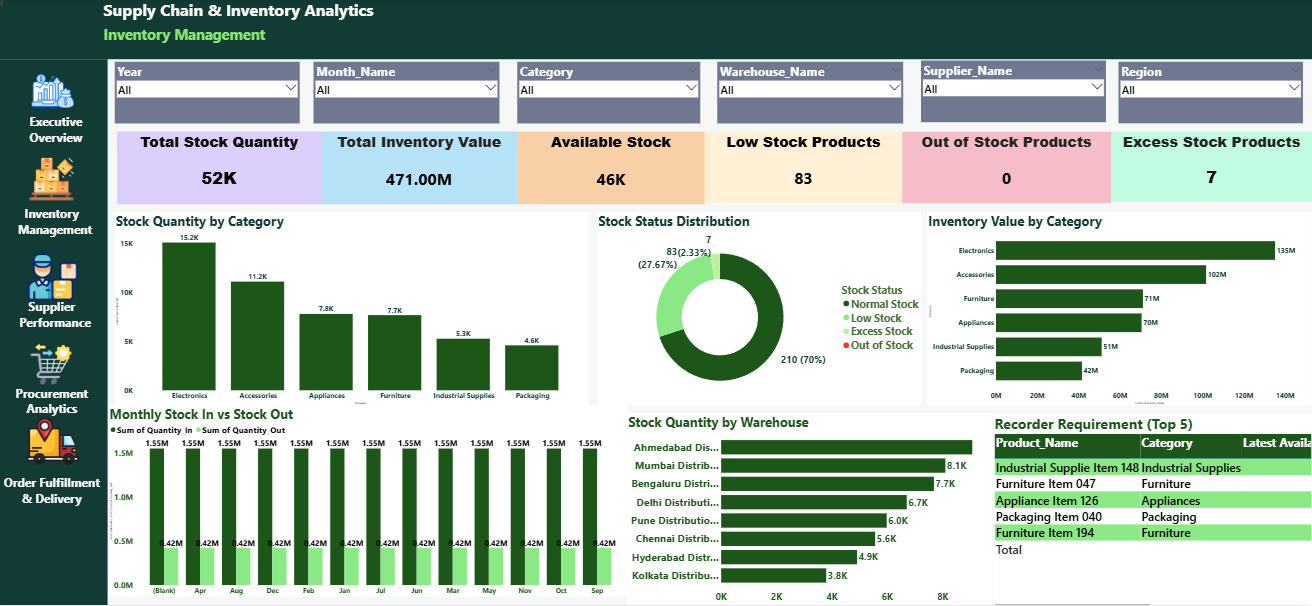

What the dashboard file says about the page in this screenshot:
{"tool":"powerbi","page":{"name":"Page 2","canvas":[6500,3000],"ordinal":1},"visuals":[{"type":"textbox","box":[0,0,6501.3,302.5],"z":0},{"type":"textbox","box":[0,304.5,551,2697.1],"z":1000},{"type":"slicer","fields":{"Values":["Dim_Date.Year"]},"box":[584.8,314.2,913.5,304.5],"z":2000},{"type":"cardVisual","title":"Total Stock Quantity","fields":{"Data":["Fact_InventorySnapshots.Latest Stock Quantity"]},"box":[598.9,660.6,1006.4,358.1],"z":3000},{"type":"cardVisual","title":"Total Inventory Value","fields":{"Data":["Fact_InventorySnapshots.Latest Inventory Value"]},"box":[1605.2,660.6,969.3,358.1],"z":4000},{"type":"cardVisual","title":"Available Stock","fields":{"Data":["Fact_InventorySnapshots.Latest Available Stock Quantity"]},"box":[2574.6,660.6,926.1,358.1],"z":5000},{"type":"cardVisual","title":"Low Stock Products","fields":{"Data":["Dim_Products.Low Stock Products"]},"box":[3500.7,660.6,975.5,351.9],"z":6000},{"type":"cardVisual","title":"Out of Stock Products","fields":{"Data":["Dim_Products.Out-of-Stock Products"]},"box":[4476.2,660.6,1031.1,351.9],"z":7000},{"type":"cardVisual","title":"Excess Stock Products","fields":{"Data":["Dim_Products.Excess Stock Products"]},"box":[5507.2,660.6,994,345.7],"z":8000},{"type":"clusteredColumnChart","title":"Stock Quantity by Category","fields":{"Category":["Dim_Products.Category"],"Y":["Fact_InventorySnapshots.Latest Stock Quantity"]},"box":[586.5,1055.8,2340,957],"z":9000},{"type":"donutChart","title":"Stock Status Distribution","fields":{"Category":["Stock_Status.Stock Status"],"Y":["Dim_Products.Stock Status Product Count"]},"box":[2967.7,1053.7,1599.9,957],"z":10000},{"type":"clusteredBarChart","title":"Inventory Value by Category","fields":{"Category":["Dim_Products.Category"],"Y":["Fact_InventorySnapshots.Latest Inventory Value"]},"box":[4601.4,1053.7,1899.5,957],"z":11000},{"type":"clusteredColumnChart","title":"Monthly Stock In vs Stock Out","fields":{"Y":["Sum(Fact_StockMovements.Quantity_In)","Sum(Fact_StockMovements.Quantity_Out)"],"Category":["Dim_Date.Month Short Name"]},"box":[555.7,2012.7,2562.2,944.6],"z":12000},{"type":"clusteredBarChart","title":"Stock Quantity by Warehouse","fields":{"Category":["Dim_Warehouses.Warehouse_Name"],"Y":["Fact_InventorySnapshots.Latest Stock Quantity"]},"box":[3117.7,2049.6,1805.6,948.9],"z":13000},{"type":"actionButton","box":[0,0,100,40],"z":14000},{"type":"tableEx","title":"Recorder Requirement (Top 5)","fields":{"Values":["Dim_Products.Product_Name","Dim_Products.Category","Fact_InventorySnapshots.Latest Available Stock Quantity","Sum(Dim_Products.Reorder_Level)","Dim_Products.Reorder Quantity"]},"box":[4926.9,2056,1574.4,950.8],"z":15000},{"type":"slicer","fields":{"Values":["Dim_Date.Month_Name"]},"box":[1566,314.2,918.4,304.5],"z":16000},{"type":"slicer","fields":{"Values":["Dim_Products.Category"]},"box":[2576.2,314.2,903.9,304.5],"z":17000},{"type":"slicer","fields":{"Values":["Dim_Warehouses.Warehouse_Name"]},"box":[3562.2,314.2,918.4,304.5],"z":18000},{"type":"slicer","fields":{"Values":["Dim_Suppliers.Supplier_Name"]},"box":[4567.6,309.3,913.5,304.5],"z":19000},{"type":"slicer","fields":{"Values":["Dim_Customers.Region"]},"box":[5546.8,314.5,910.9,303.6],"z":20000},{"type":"image","box":[135.8,351.9,290.2,216.1],"z":20001},{"type":"image","box":[129.7,784.1,290.2,222.3],"z":20002},{"type":"image","box":[98.8,1704,345.7,209.9],"z":20003},{"type":"image","box":[142,1253.3,277.8,247],"z":20004},{"type":"image","box":[135.8,2056,290.2,265.5],"z":20005}]}

Visuals, with their boxes on the page's 6500x3000 design canvas (x1, y1, x2, y2). These are canvas units, not pixel positions in the 1312x606 screenshot, which may show the page scaled, cropped or inside an application window:
textbox: (x1=0, y1=0, x2=6501, y2=302)
textbox: (x1=0, y1=304, x2=551, y2=3002)
slicer - Dim_Date.Year: (x1=585, y1=314, x2=1498, y2=619)
"Total Stock Quantity" cardVisual: (x1=599, y1=661, x2=1605, y2=1019)
"Total Inventory Value" cardVisual: (x1=1605, y1=661, x2=2574, y2=1019)
"Available Stock" cardVisual: (x1=2575, y1=661, x2=3501, y2=1019)
"Low Stock Products" cardVisual: (x1=3501, y1=661, x2=4476, y2=1012)
"Out of Stock Products" cardVisual: (x1=4476, y1=661, x2=5507, y2=1012)
"Excess Stock Products" cardVisual: (x1=5507, y1=661, x2=6501, y2=1006)
"Stock Quantity by Category" clusteredColumnChart: (x1=586, y1=1056, x2=2926, y2=2013)
"Stock Status Distribution" donutChart: (x1=2968, y1=1054, x2=4568, y2=2011)
"Inventory Value by Category" clusteredBarChart: (x1=4601, y1=1054, x2=6501, y2=2011)
"Monthly Stock In vs Stock Out" clusteredColumnChart: (x1=556, y1=2013, x2=3118, y2=2957)
"Stock Quantity by Warehouse" clusteredBarChart: (x1=3118, y1=2050, x2=4923, y2=2998)
actionButton: (x1=0, y1=0, x2=100, y2=40)
"Recorder Requirement (Top 5)" tableEx: (x1=4927, y1=2056, x2=6501, y2=3007)
slicer - Dim_Date.Month_Name: (x1=1566, y1=314, x2=2484, y2=619)
slicer - Dim_Products.Category: (x1=2576, y1=314, x2=3480, y2=619)
slicer - Dim_Warehouses.Warehouse_Name: (x1=3562, y1=314, x2=4481, y2=619)
slicer - Dim_Suppliers.Supplier_Name: (x1=4568, y1=309, x2=5481, y2=614)
slicer - Dim_Customers.Region: (x1=5547, y1=314, x2=6458, y2=618)
image: (x1=136, y1=352, x2=426, y2=568)
image: (x1=130, y1=784, x2=420, y2=1006)
image: (x1=99, y1=1704, x2=444, y2=1914)
image: (x1=142, y1=1253, x2=420, y2=1500)
image: (x1=136, y1=2056, x2=426, y2=2322)
